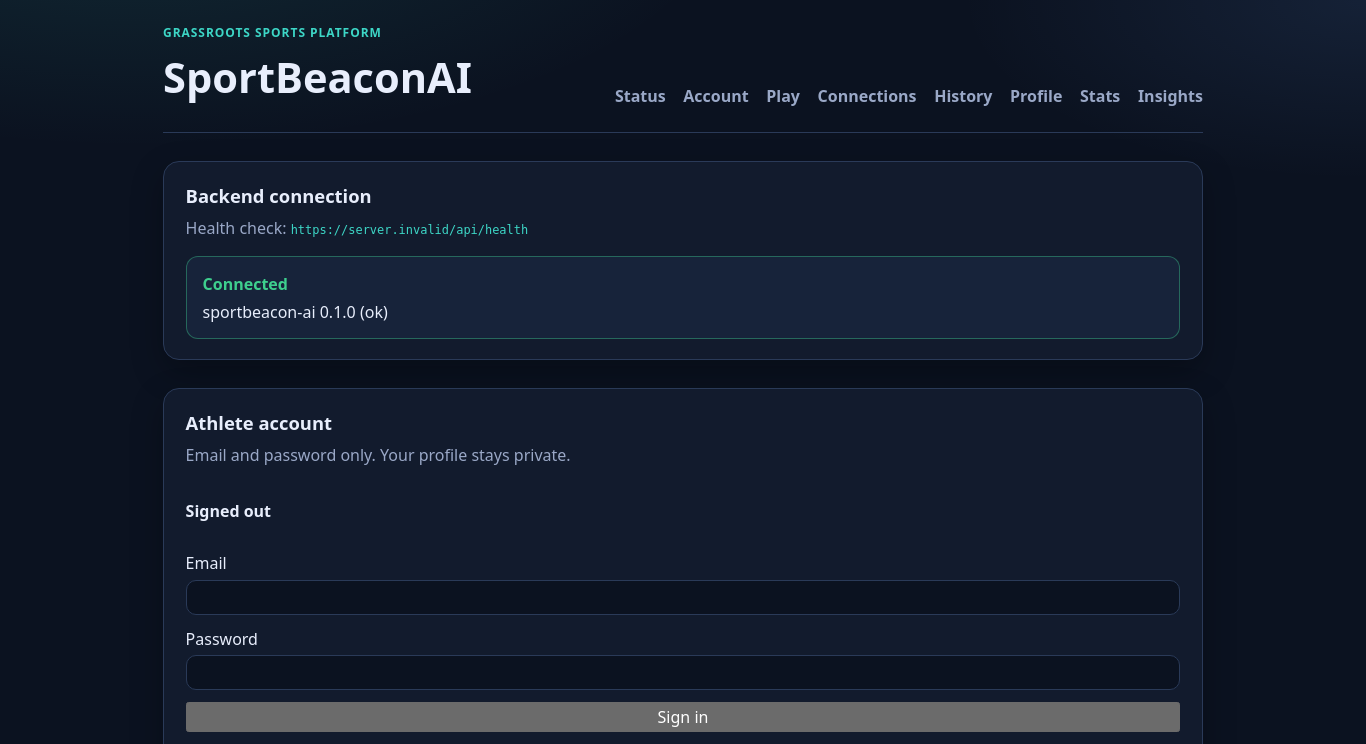
it: Phase 3B athlete connections › accepts an incoming request and shows the connection on Play
Type "ada@example.com" into the field labelled "Email" at (683, 597), box [186,580,1180,615]
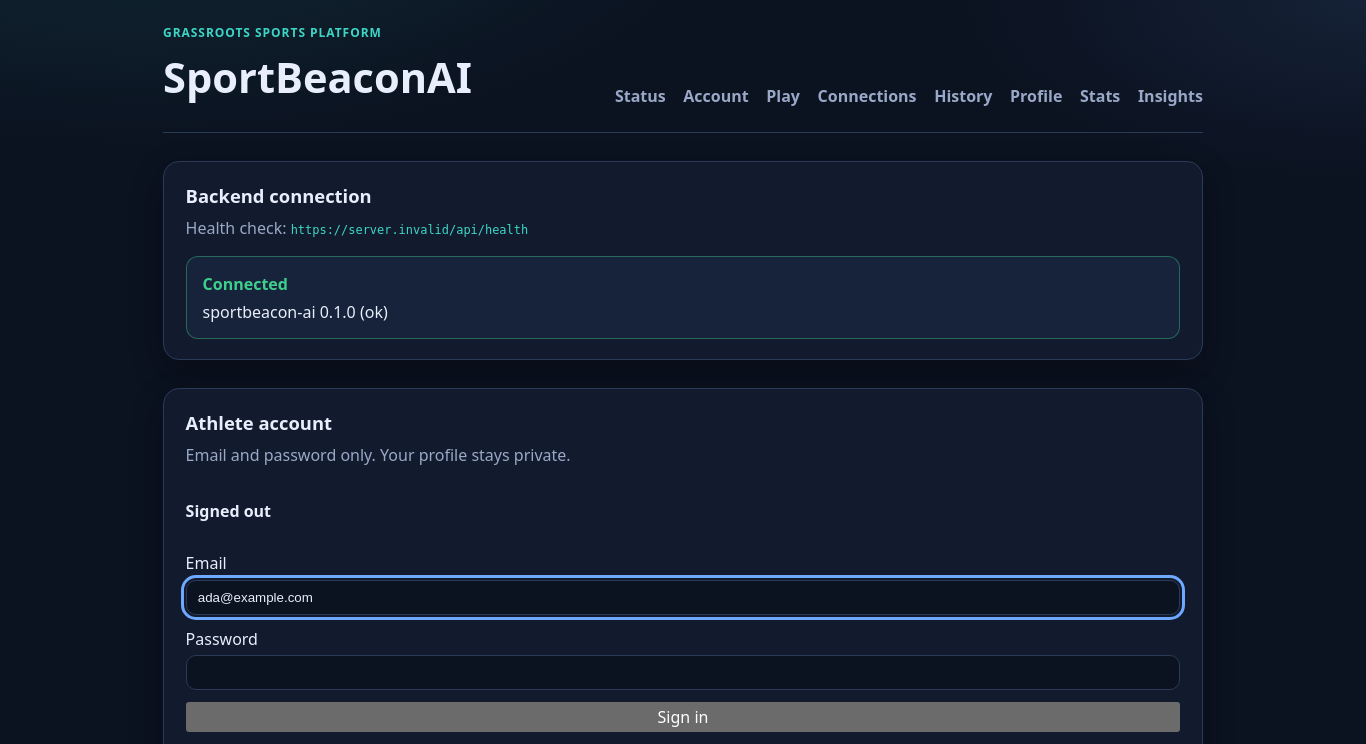
Type "secret1" into the password field labelled "Password" at (683, 673), box [186,655,1180,690]
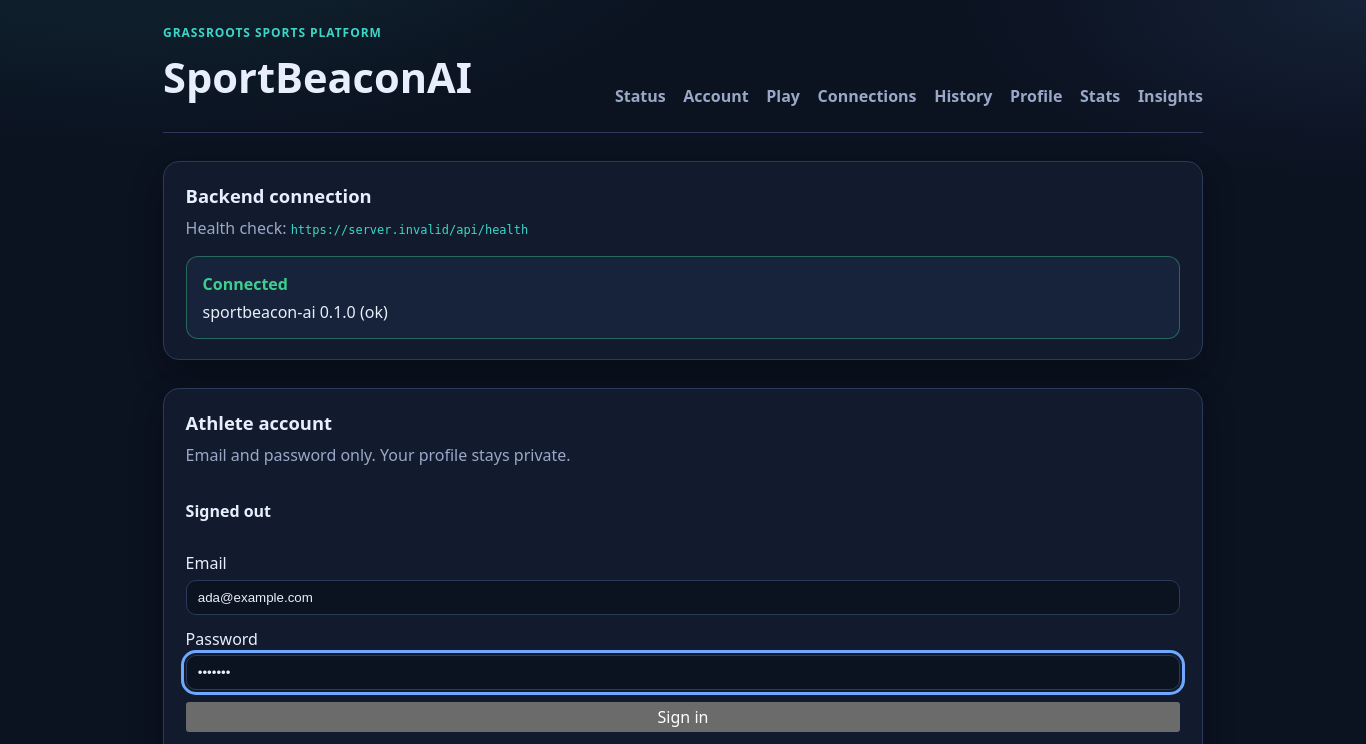
Click the button "Sign in" at (683, 717), box [186,702,1180,732]
(page scrolled)
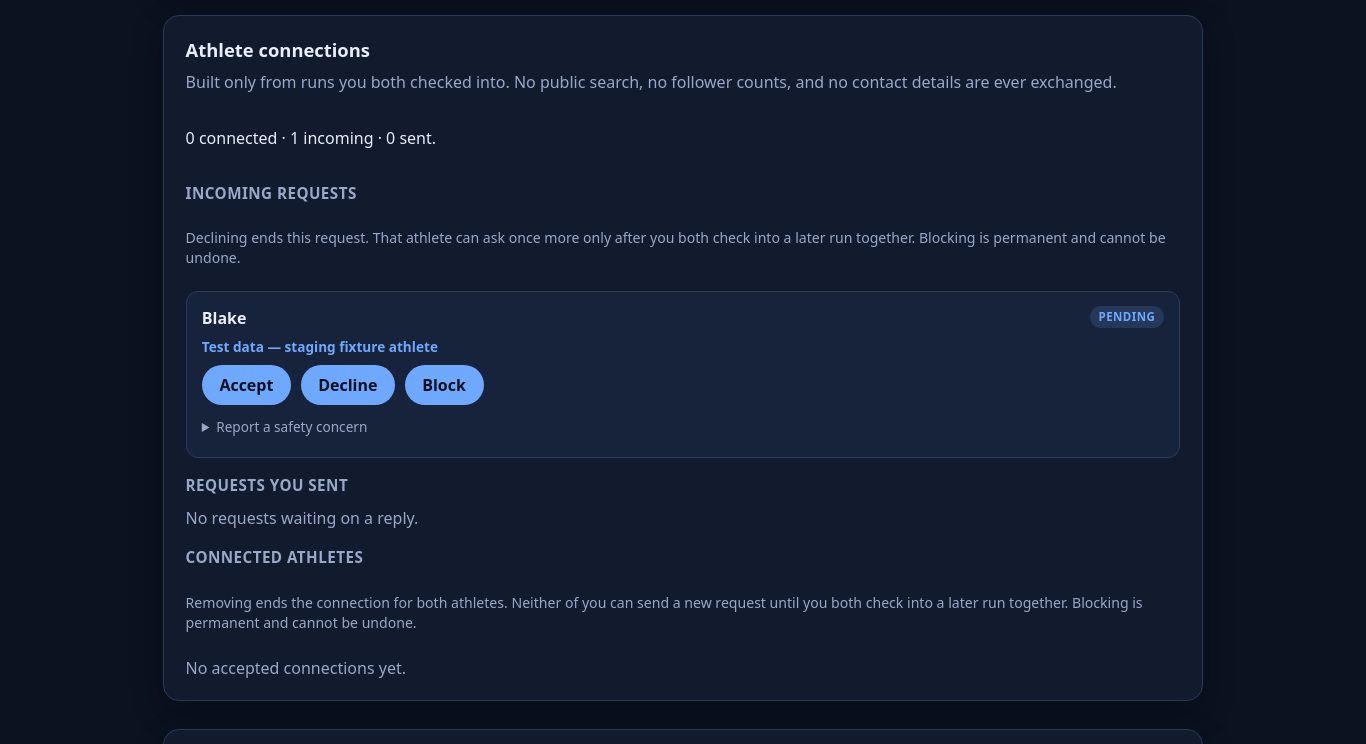
Now the text with test id "connections-state" reads "0 connected · 1 incoming · 0 sent.", box [186,127,436,149]
Now the list item with test id "connection-conn-9" shows "Pending", box [1098,309,1155,324]
Click the button with aria-label "Accept the connection request from Blake" at (246, 385), box [202,365,291,405]
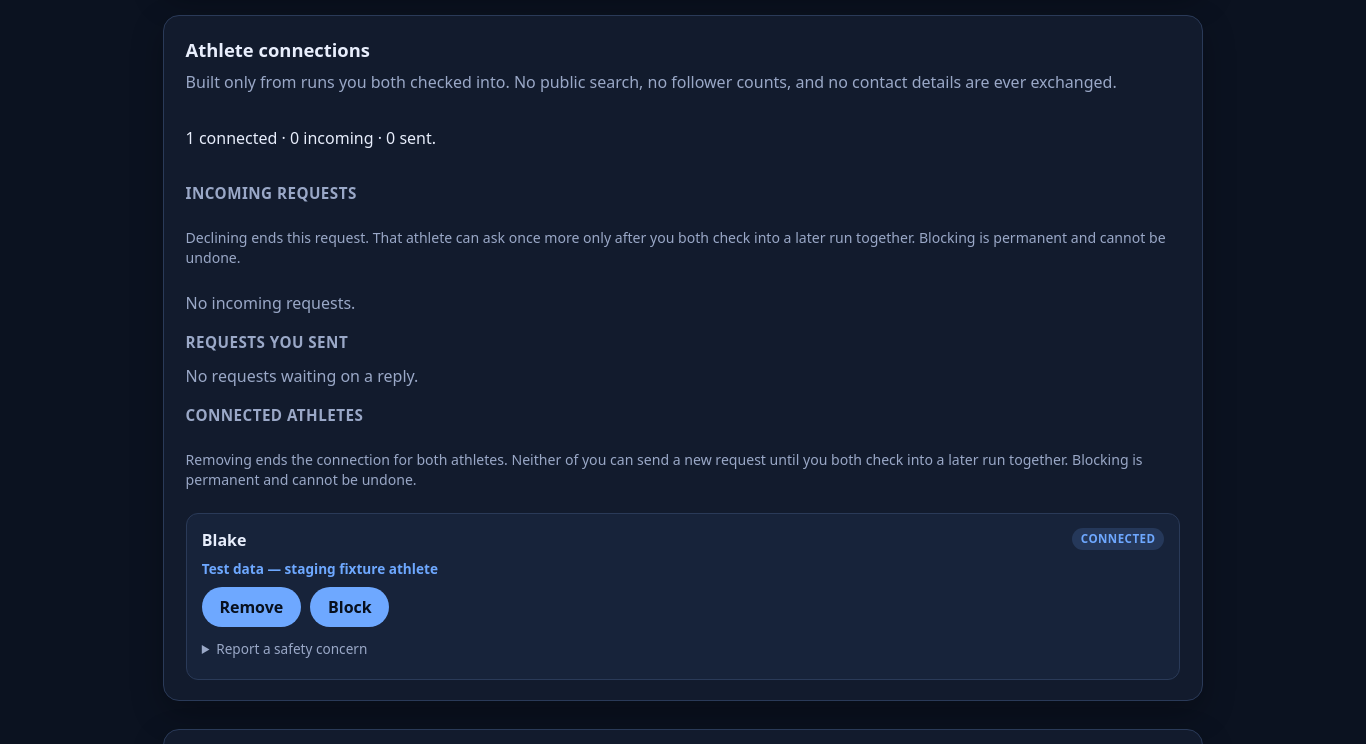
Now the element with test id "connections-accepted" shows "Connected", box [1081,531,1155,546]
Now the text with test id "connections-state" reads "1 connected · 0 incoming · 0 sent.", box [186,127,436,149]
Now the element with test id "connections-incoming" shows "No incoming requests.", box [186,292,355,314]
